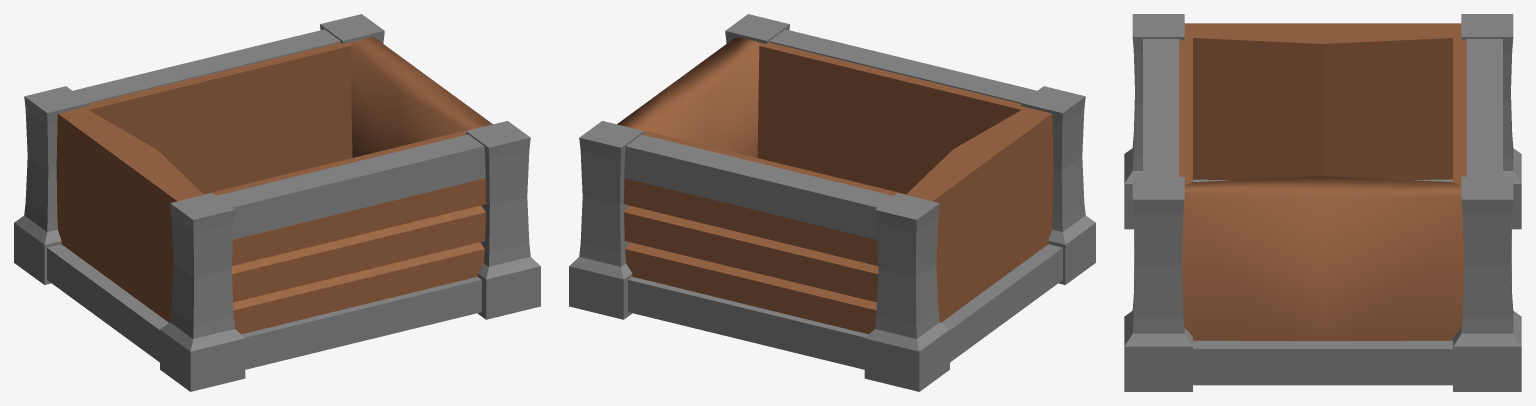
Rendered from Box_Bottom.glb.
3 views of the same model, side by side, from view 1: azimuth 30°, elevation 25°; view 2: azimuth 150°, elevation 25°; view 3: azimuth 270°, elevation 25° (orthographic). The views are drawn at different scales.
Visible parts, largest first — view 1: Box_Bottom; view 2: Box_Bottom; view 3: Box_Bottom.
Part boxes in pixels (left/top/right/bottom): Box_Bottom: left=14, top=14, right=540, bottom=391; Box_Bottom: left=569, top=14, right=1095, bottom=391; Box_Bottom: left=1124, top=14, right=1521, bottom=391.
Bounding box in the file's own units: 2.23 × 1.02 × 1.94.
